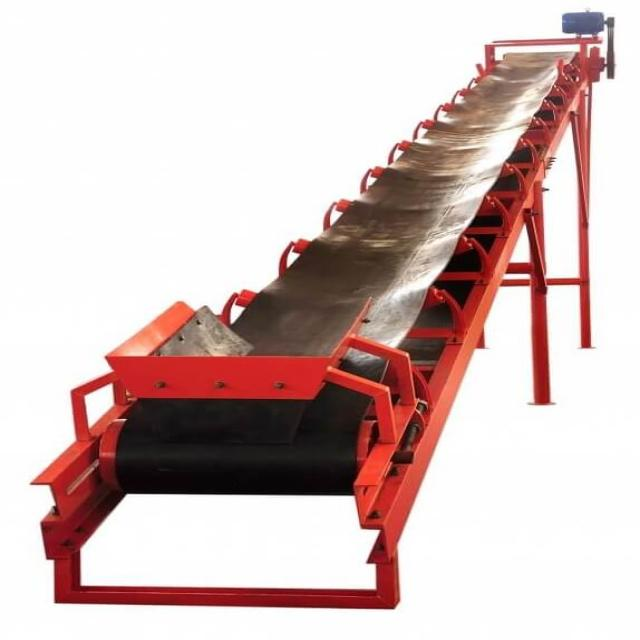conveyor: (21, 5, 634, 608)
